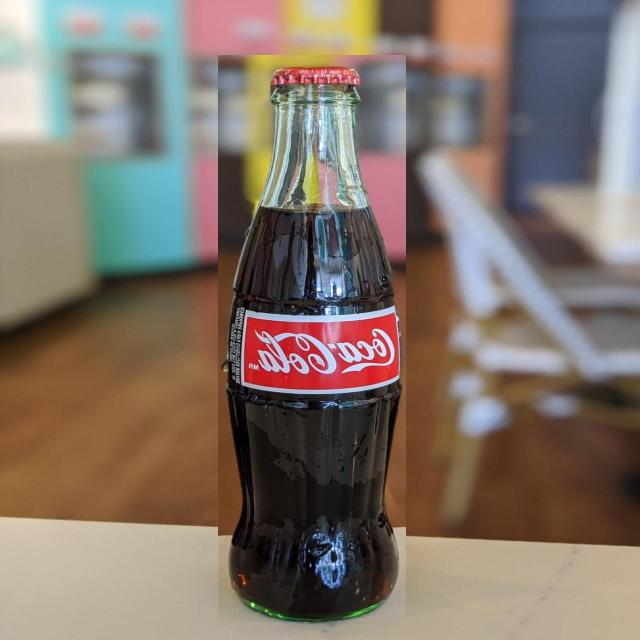coca-cola: (218, 55, 406, 622)
